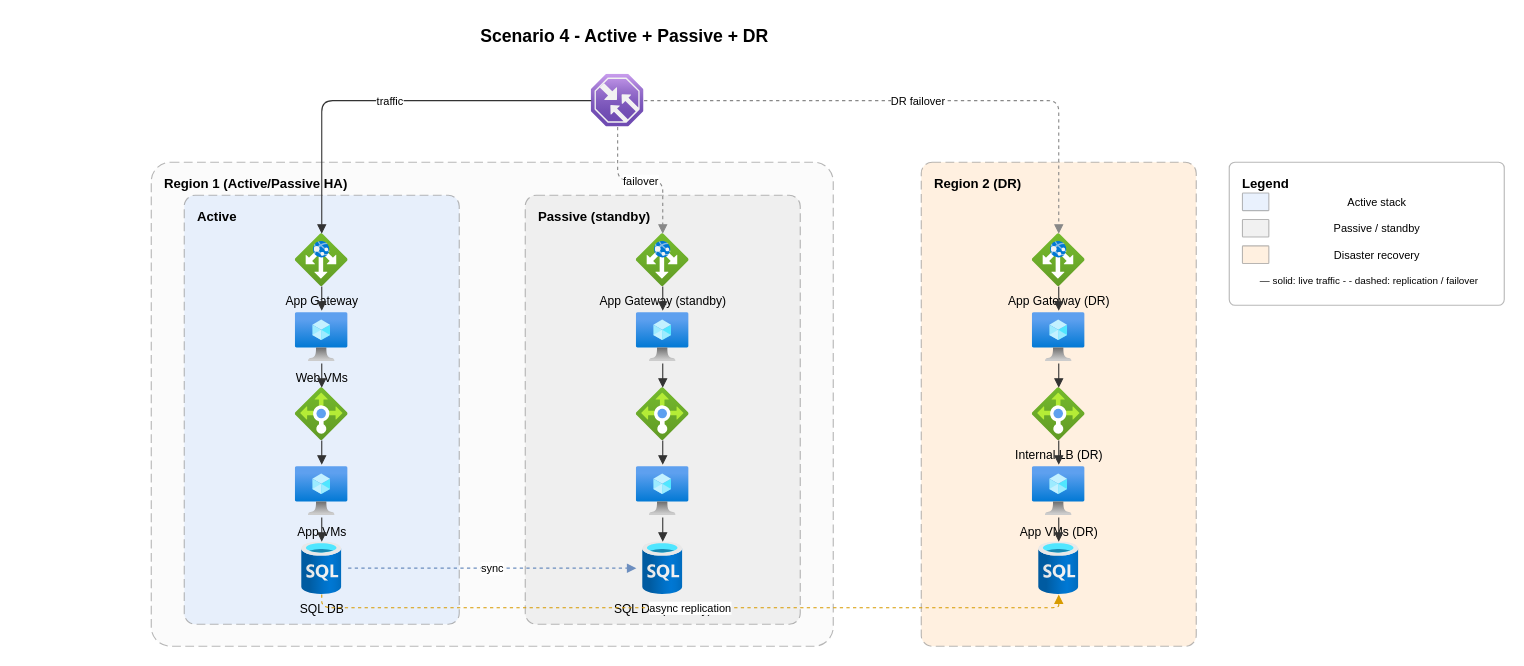
The diagram is 1524 pixels wide and 666 high, and some of its shapes have lost their labels. Here are the shapes that lost their labels. From the top down, the centre of each, then its label:
At pixel 617 100: "Traffic Manager (DNS)".
At pixel 662 336: "Web VMs (standby)".
At pixel 1058 336: "Web VMs (DR)".
At pixel 321 413: "Internal LB".
At pixel 662 413: "Internal LB (standby)".
At pixel 662 490: "App VMs (standby)".
At pixel 1058 567: "SQL DB (DR)".
